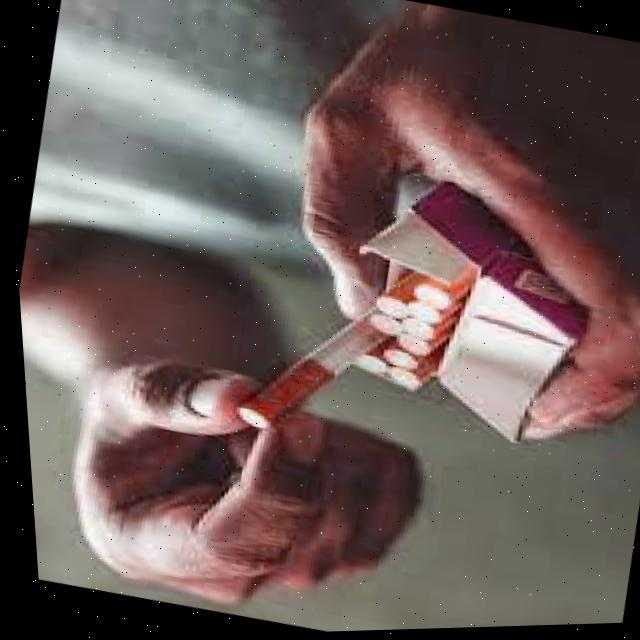cigarette: (239, 321, 388, 430)
